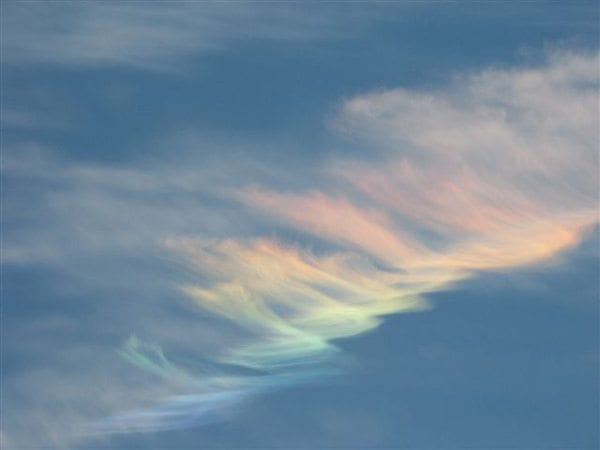Cirrus: (60, 30, 600, 434)
